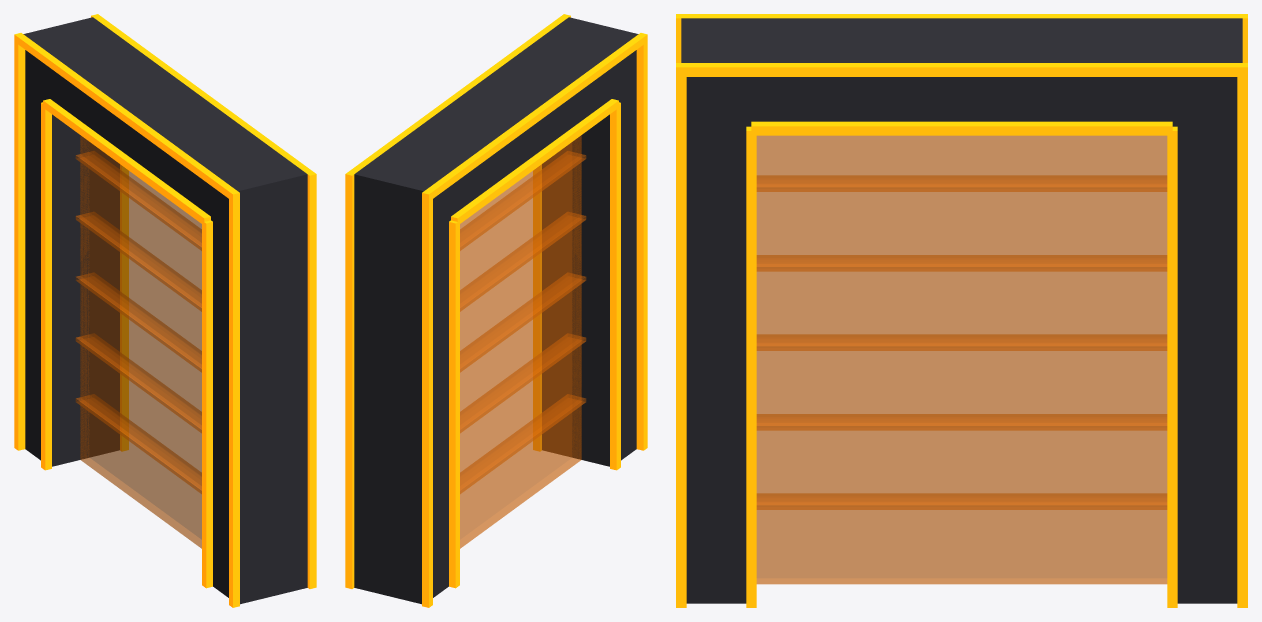
Rendered from firewall_door.glb.
3 renders of one model, left to right at view 1: azimuth 30°, elevation 25°; view 2: azimuth 150°, elevation 25°; view 3: azimuth 270°, elevation 25°, orthographic. The views are drawn at different scales.
Visible parts, largest first — view 1: firewall_barrier, PillarL, PillarR, Lintel, TrimEdge.001, TrimEdge, TrimEdge.002, TrimSide, TrimSide.001, TrimCrown, firewall_barrier_bar1, firewall_barrier_bar4 (+6 smaller); view 2: firewall_barrier, PillarR, PillarL, Lintel, TrimEdge, TrimEdge.001, TrimEdge.003, TrimSide.001, TrimSide, TrimCrown, firewall_barrier_bar2, firewall_barrier_bar4 (+6 smaller); view 3: firewall_barrier, Lintel, PillarL, PillarR, TrimCrown.001, firewall_barrier_bar1, firewall_barrier_bar3, firewall_barrier_bar5, firewall_barrier_bar2, firewall_barrier_bar4, TrimTop.001, TrimEdge.003 (+4 smaller).
Part boxes in pixels (bbox=[...]): firewall_barrier: bbox=[80, 135, 201, 548]; PillarL: bbox=[211, 154, 307, 604]; PillarR: bbox=[23, 17, 119, 466]; Lintel: bbox=[50, 37, 280, 216]; TrimEdge.001: bbox=[14, 33, 25, 450]; TrimEdge: bbox=[229, 191, 239, 607]; TrimEdge.002: bbox=[306, 171, 316, 588]; TrimSide: bbox=[202, 220, 212, 588]; TrimSide.001: bbox=[41, 102, 51, 470]; TrimCrown: bbox=[16, 34, 237, 199]; firewall_barrier_bar1: bbox=[75, 394, 201, 493]; firewall_barrier_bar4: bbox=[75, 212, 201, 311]; firewall_barrier: bbox=[460, 135, 581, 548]; PillarR: bbox=[354, 154, 450, 604]; PillarL: bbox=[542, 17, 638, 466]; Lintel: bbox=[381, 37, 611, 216]; TrimEdge: bbox=[636, 33, 647, 450]; TrimEdge.001: bbox=[422, 191, 432, 607]; TrimEdge.003: bbox=[345, 171, 355, 588]; TrimSide.001: bbox=[449, 220, 459, 588]; TrimSide: bbox=[610, 102, 620, 470]; TrimCrown: bbox=[424, 34, 644, 199]; firewall_barrier_bar2: bbox=[460, 334, 586, 433]; firewall_barrier_bar4: bbox=[460, 212, 586, 311]; firewall_barrier: bbox=[756, 135, 1167, 584]; Lintel: bbox=[751, 18, 1172, 121]; PillarL: bbox=[681, 18, 751, 603]; PillarR: bbox=[1172, 18, 1242, 603]; TrimCrown.001: bbox=[681, 63, 1242, 76]; firewall_barrier_bar1: bbox=[756, 493, 1167, 509]; firewall_barrier_bar3: bbox=[756, 334, 1167, 350]; firewall_barrier_bar5: bbox=[756, 175, 1167, 191]; firewall_barrier_bar2: bbox=[756, 414, 1167, 430]; firewall_barrier_bar4: bbox=[756, 255, 1167, 271]; TrimTop.001: bbox=[751, 121, 1172, 135]; TrimEdge.003: bbox=[1237, 63, 1247, 607].
Bounding box in the file's own units: 0.72 × 3.4 × 3.26.
